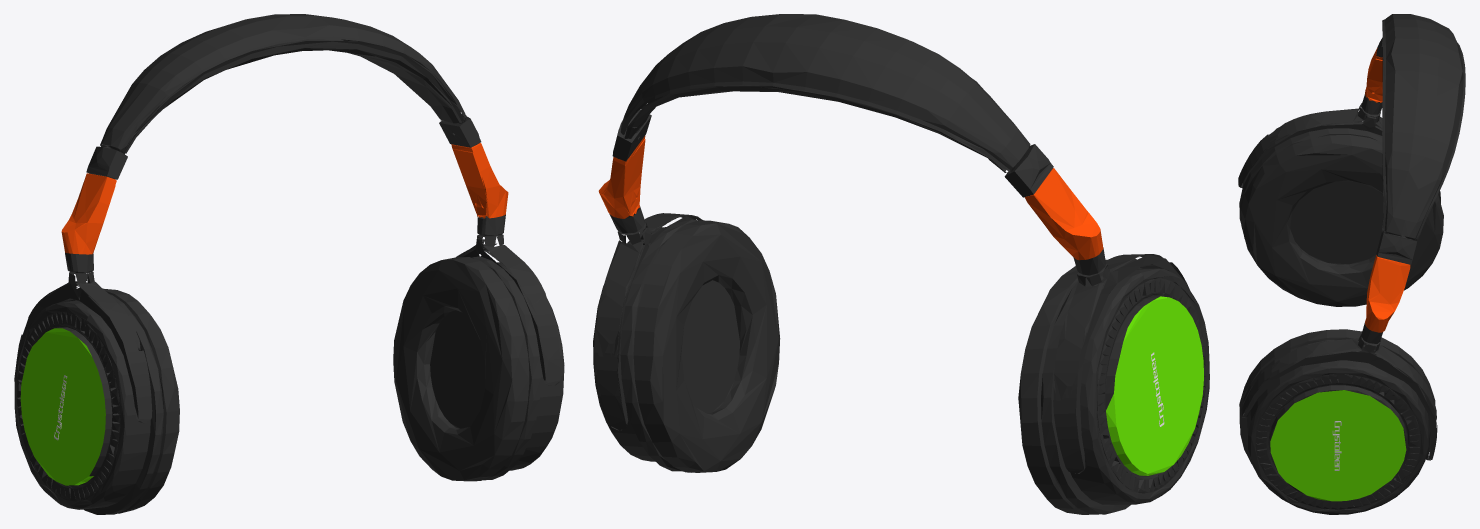
Rendered from BHeadphones.gltf.
The picture shows the model from 3 angles, left to right: view 1: azimuth 30°, elevation 25°; view 2: azimuth 150°, elevation 25°; view 3: azimuth 270°, elevation 25°; orthographic projection. The views are drawn at different scales.
Parts seen in each view (by area): view 1: node-0; view 2: node-0; view 3: node-0.
Boxes of the visible parts, x1=… form: node-0: x1=14, y1=14, x2=564, y2=514; node-0: x1=593, y1=14, x2=1209, y2=514; node-0: x1=1238, y1=14, x2=1465, y2=514.
Size of the model in its own units: 48.3 by 43.9 by 22.71.
